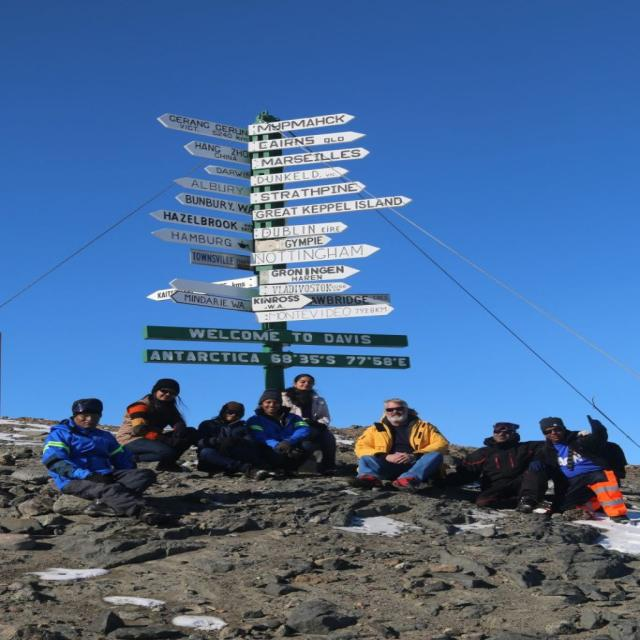body: (41, 398, 177, 526), (454, 421, 592, 514), (525, 414, 636, 526), (344, 397, 452, 495), (112, 377, 200, 474), (276, 372, 341, 478), (196, 400, 279, 480), (242, 389, 316, 478)
